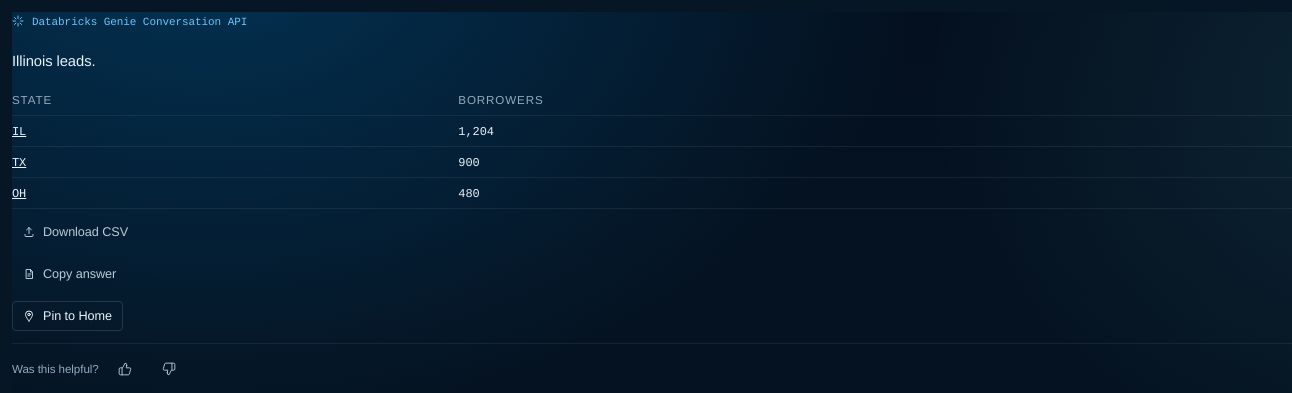
Scenario: Genie answer CSV download (genie-06 slice 2) › a 404 downloads nothing and says why
The image size is (1292, 393).
Click the button with class "genie-answer__download". click: {"x": 76, "y": 232}
box: [12,217,139,247]
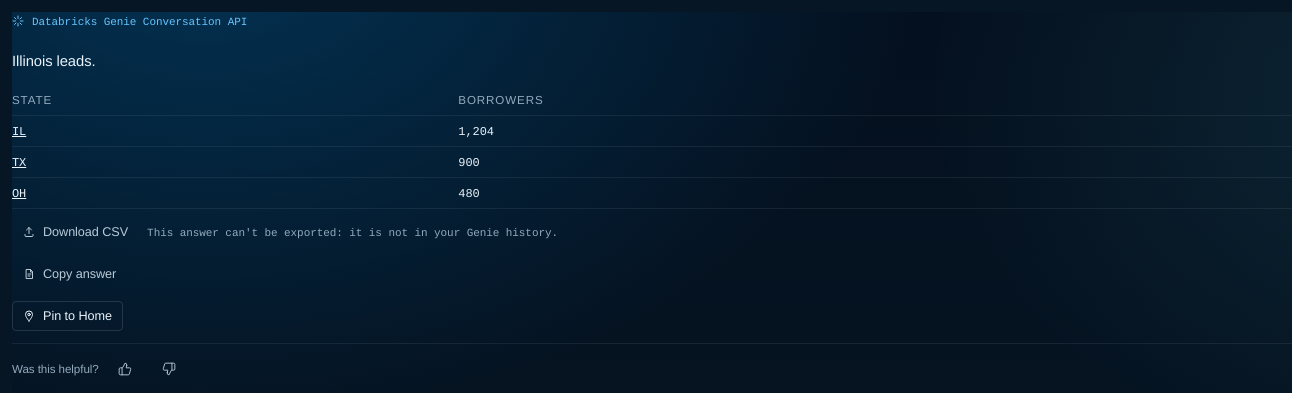
Check: the text "This answer can't be exported: it is not in your Genie history." is shown, box [147,224,558,240]
